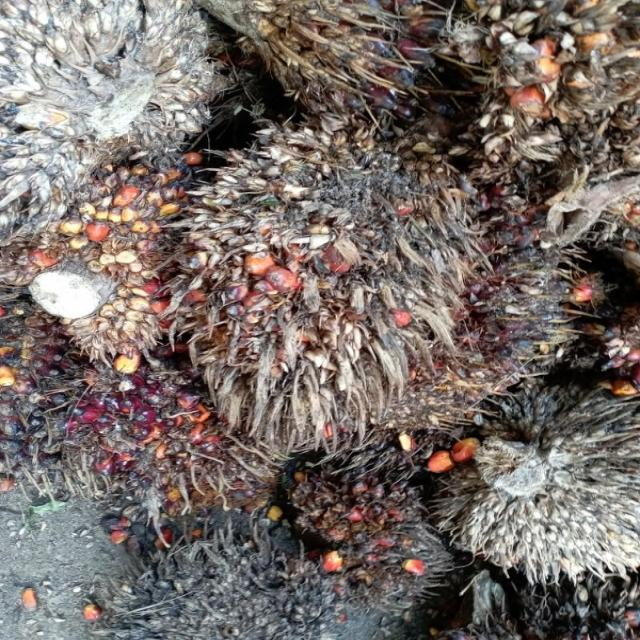fraksi 4: (134, 84, 547, 454)
